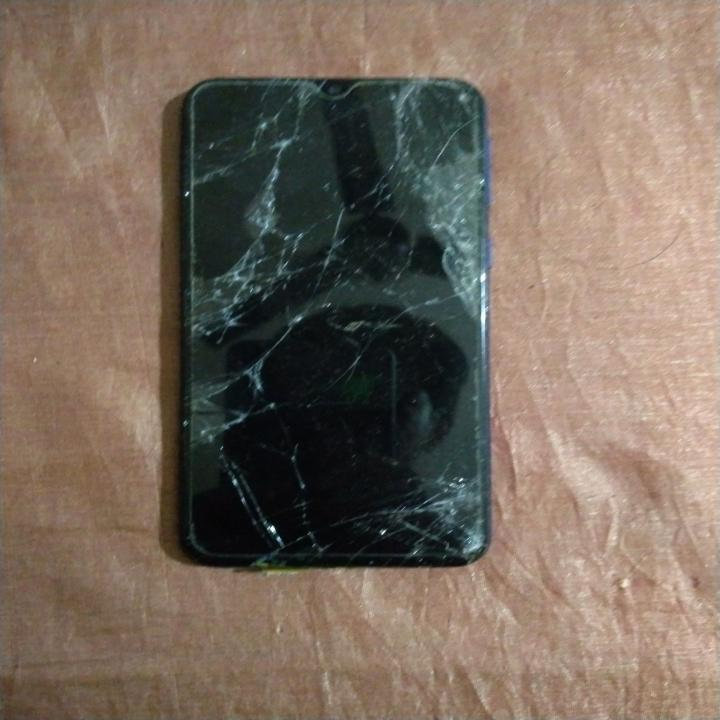Crack: (189, 343, 509, 565), (193, 79, 358, 339), (353, 88, 497, 348)
